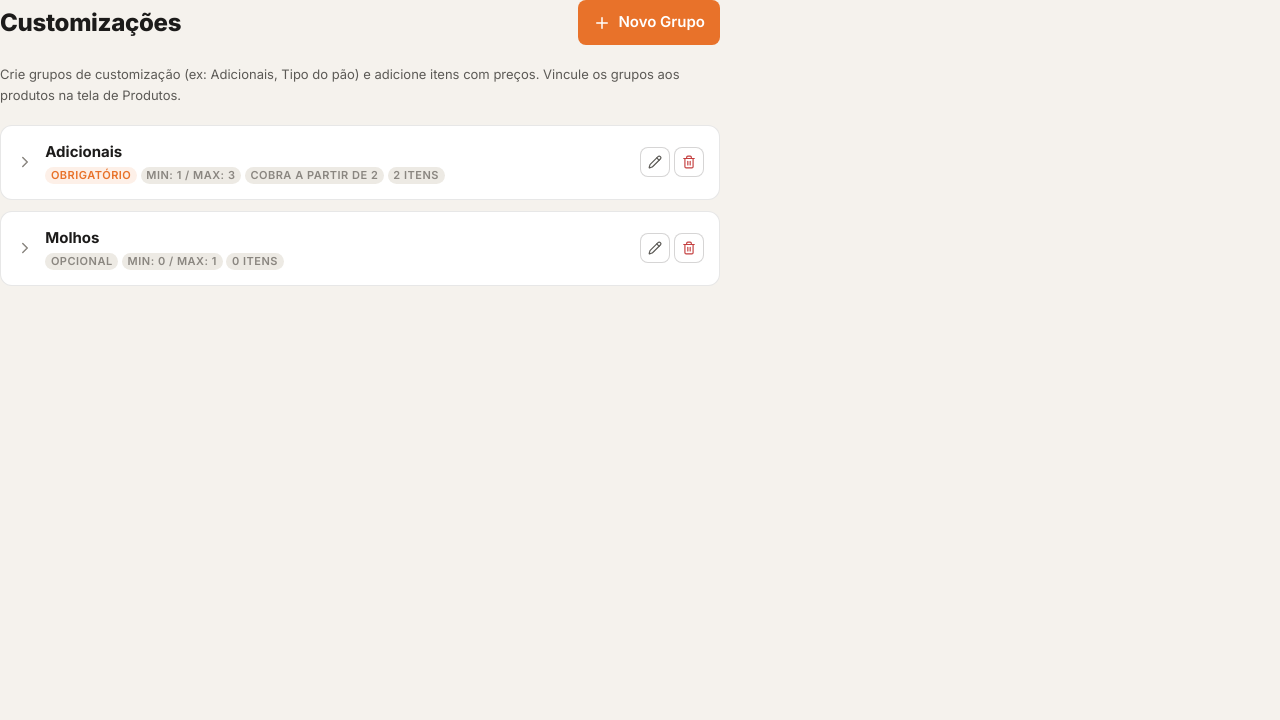
Test: CustomizationsPage › toasts and keeps the group modal open on Left
Expected: the text "Adicionais" is shown, [45, 142, 122, 161]
Step 1. Click the button "Novo Grupo" → (649, 22), box [578, 0, 720, 45]
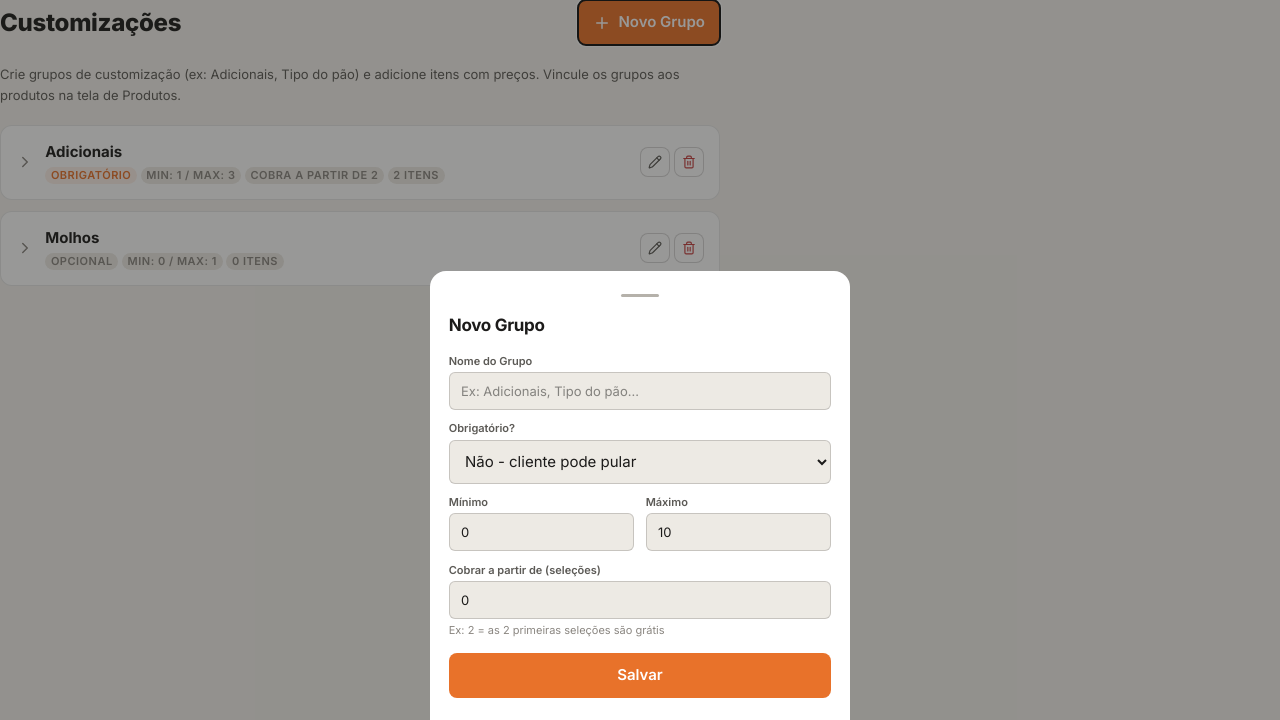
Step 2. Click the button "Salvar" → (640, 675), box [449, 652, 831, 698]
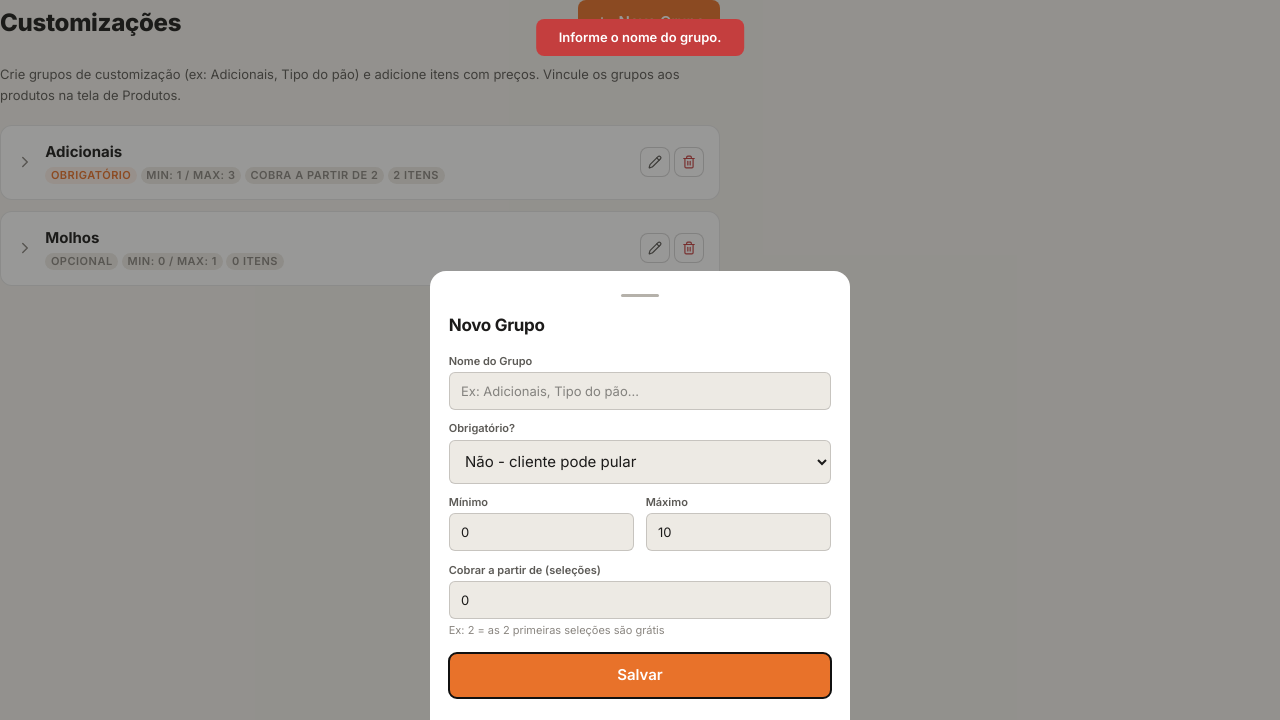
Expected: the dialog is shown, [430, 271, 850, 719]
Expected: the message reads "Informe o nome do grupo.", [559, 29, 721, 45]
